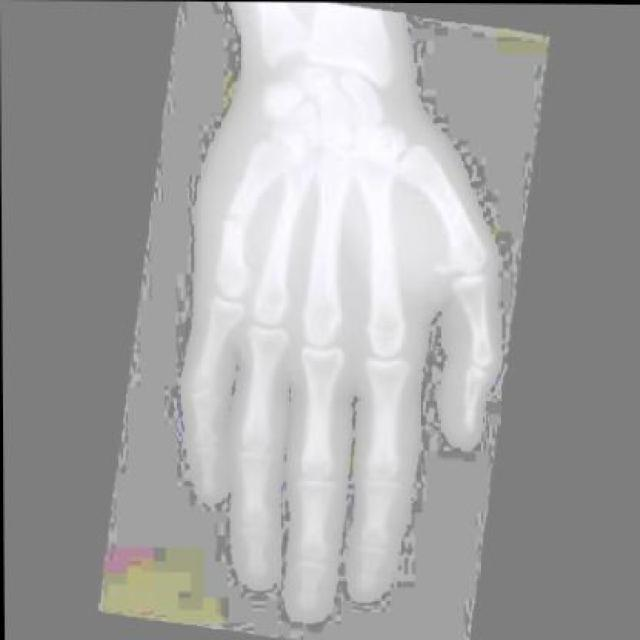Fracture: (210, 199, 250, 244)
